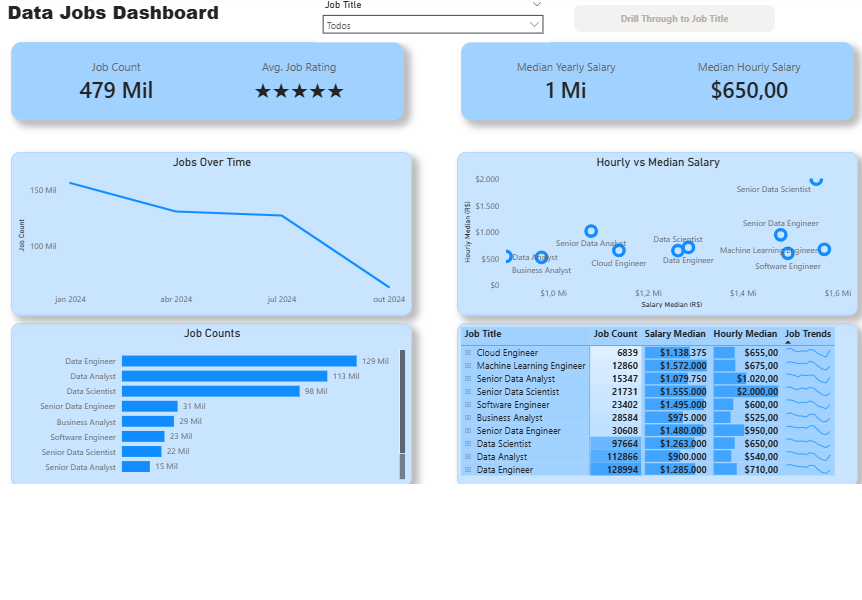

This screenshot's page, from the dashboard's own definition file:
{"tool":"powerbi","page":{"name":"Data Jobs Dashboard","canvas":[1280,720],"ordinal":0},"visuals":[{"type":"textbox","box":[10.3,0,368.8,51.4],"z":0},{"type":"cardVisual","fields":{"Data":["CountNonNull(job_postings_flat.job_title_short)","job_postings_flat.Salary Star Rating"]},"box":[20.6,67.6,577.5,114.6],"z":1000},{"type":"cardVisual","fields":{"Data":["Median(job_postings_flat.salary_year_avg)","Median(job_postings_flat.salary_hour_avg)"]},"box":[681.8,67.6,577.5,114.6],"z":2000},{"type":"lineChart","title":"Jobs Over Time","fields":{"Category":["job_postings_flat.job_posted_date.Variation.Hierarquia de datas.Ano","job_postings_flat.job_posted_date.Variation.Hierarquia de datas.Trimestre","job_postings_flat.job_posted_date.Variation.Hierarquia de datas.Mês"],"Y":["CountNonNull(job_postings_flat.job_title_short)"]},"box":[20.6,229.2,589.2,239.5],"z":3000},{"type":"scatterChart","title":"Hourly vs Median Salary","fields":{"Y":["Median(job_postings_flat.salary_hour_avg)"],"X":["Median(job_postings_flat.salary_year_avg)"],"Category":["job_postings_flat.job_title_short"]},"box":[675.9,229.2,589.2,239.5],"z":4000},{"type":"barChart","title":"Job Counts","fields":{"Y":["CountNonNull(job_postings_flat.job_title_short)"],"Category":["job_postings_flat.job_title_short"]},"box":[20.6,480.5,589.2,239.5],"z":5000},{"type":"pivotTable","title":"Job Counts","fields":{"Rows":["job_postings_flat.job_title_short","job_postings_flat.job_posted_date.Variation.Hierarquia de datas.Trimestre"],"Values":["CountNonNull(job_postings_flat.job_title_short)","Median(job_postings_flat.salary_year_avg)","Median(job_postings_flat.salary_hour_avg)","SparklineData(CountNonNull(job_postings_flat.job_title_short)_[job_postings_flat.job_posted_date.Variation.Hierarquia de"]},"box":[675.9,480.5,589.2,239.5],"z":6000},{"type":"slicer","fields":{"Values":["job_postings_flat.job_title_short"]},"box":[468.7,0,343.8,67.6],"z":8000},{"type":"actionButton","box":[847.8,13.2,295.3,39.7],"z":9000}]}

Visuals, with their boxes on the page's 1280x720 design canvas (x1, y1, x2, y2). These are canvas units, not pixel positions in the 862x600 screenshot, which may show the page scaled, cropped or inside an application window:
textbox: [10, 0, 379, 51]
cardVisual - CountNonNull(job_postings_flat.job_title_short) x job_postings_flat.Salary Star Rating: [21, 68, 598, 182]
cardVisual - Median(job_postings_flat.salary_year_avg) x Median(job_postings_flat.salary_hour_avg): [682, 68, 1259, 182]
"Jobs Over Time" lineChart: [21, 229, 610, 469]
"Hourly vs Median Salary" scatterChart: [676, 229, 1265, 469]
"Job Counts" barChart: [21, 480, 610, 720]
"Job Counts" pivotTable: [676, 480, 1265, 720]
slicer - job_postings_flat.job_title_short: [469, 0, 812, 68]
actionButton: [848, 13, 1143, 53]
